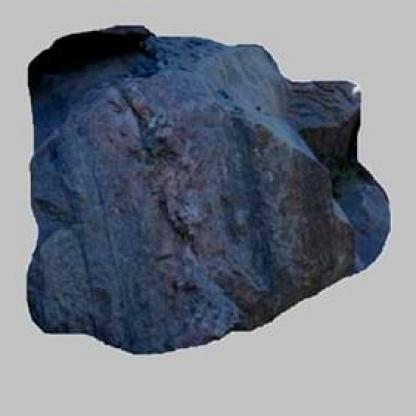Igneous_Granite: (15, 6, 395, 364)
